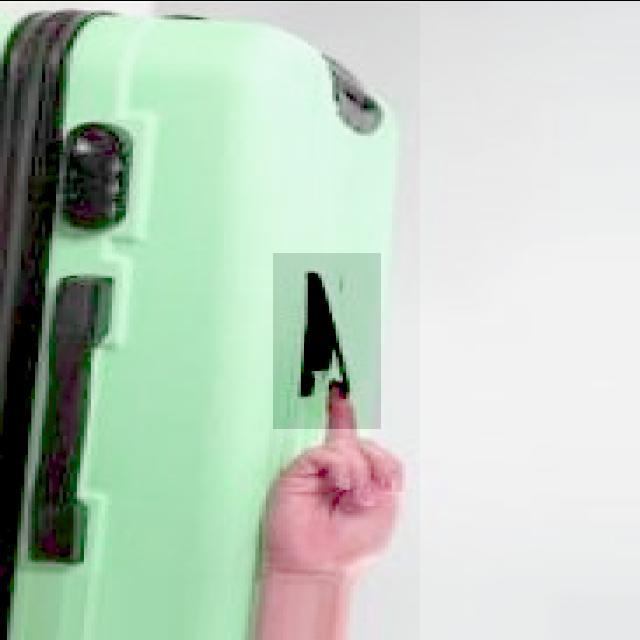Damage-bag: (300, 271, 348, 396)
